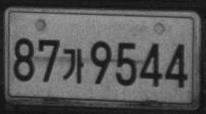4: (138, 42, 163, 87), (164, 43, 188, 88)
5: (115, 41, 136, 86)
7: (38, 38, 60, 82)
8: (12, 37, 34, 81)
9: (89, 39, 112, 84)
가: (62, 47, 84, 84)
